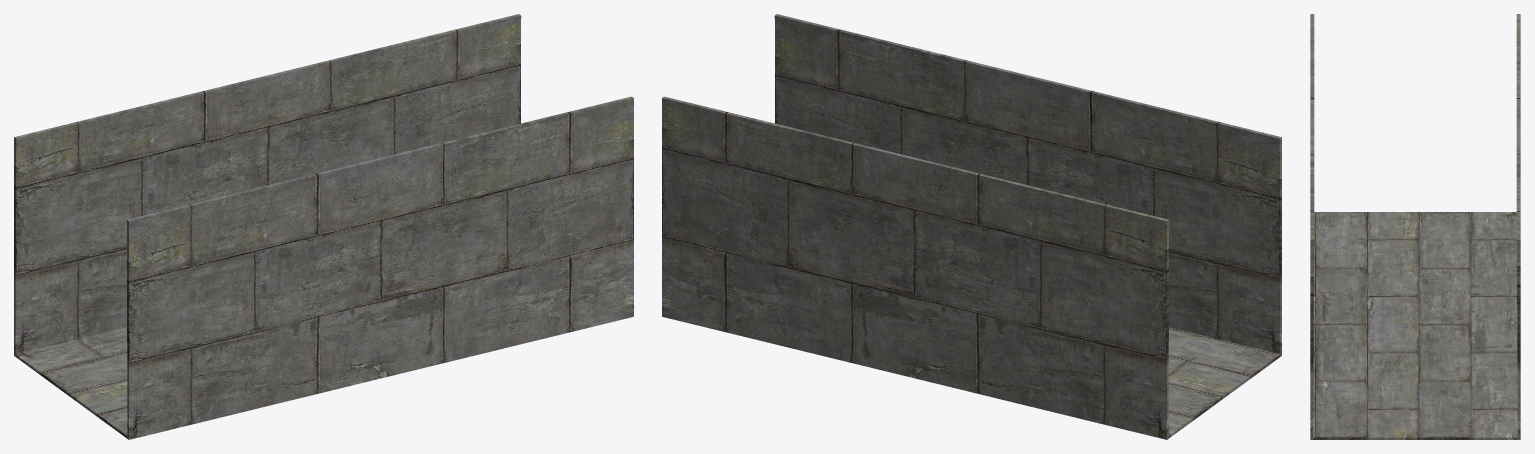
File: Trap.fbx
3 views of the same model, side by side, from view 1: azimuth 30°, elevation 25°; view 2: azimuth 150°, elevation 25°; view 3: azimuth 270°, elevation 25° (orthographic). The views are drawn at different scales.
Visible parts, largest first — view 1: Box001; view 2: Box001; view 3: Box001.
Boxes of the visible parts, x1,y1,x2,y2 form: Box001: (14,14,633,439); Box001: (662,14,1281,439); Box001: (1310,14,1520,439).
Bounding box in the file's own units: 139 × 57.67 × 54.87.
